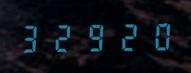nine: (80, 20, 110, 52)
three: (18, 21, 48, 53)
two: (49, 20, 79, 53), (111, 19, 141, 52)
zero: (142, 19, 172, 51)
